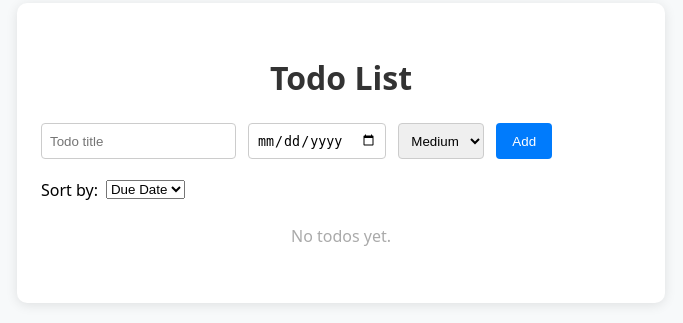
Scenario: App Integration › can set priority and due date
Type "Important task" into the field with placeholder "Todo title".
click(138, 141); type("Important task")  # box x1=41 y1=123 x2=236 y2=159
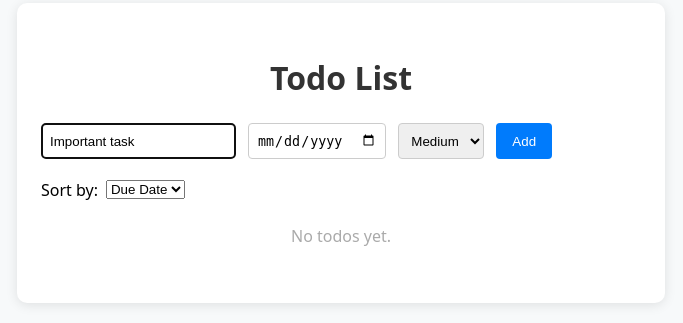
Type "2024-12-31" into the date field named "dueDate".
click(317, 141); type("2024-12-31")  # box x1=248 y1=123 x2=386 y2=159
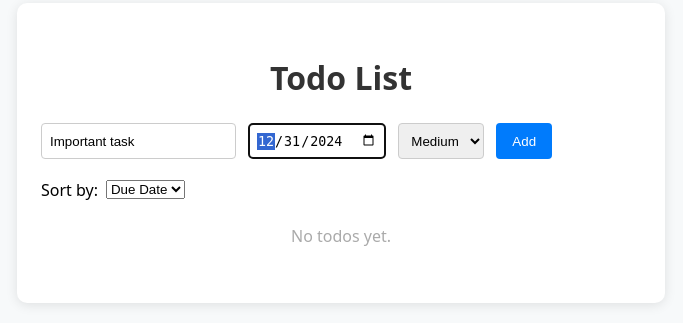
Select "High" in the 1st dropdown showing "Medium" at [441, 141], box x1=398 y1=123 x2=484 y2=159
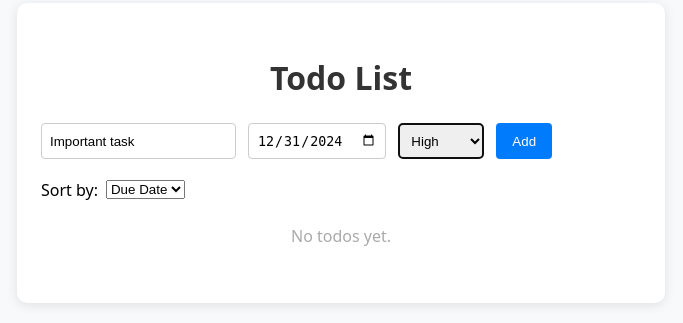
Click the button "Add".
click(524, 141)  # box x1=496 y1=123 x2=552 y2=159
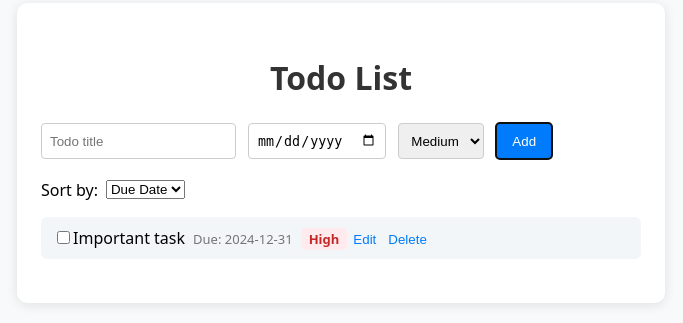
Check: the text "Important task" is shown, box x1=73 y1=227 x2=185 y2=249
Check: the text "Due: 2024-12-31" is shown, box x1=193 y1=230 x2=293 y2=248
Check: the text with class "todo-priority" reads "High", box x1=309 y1=230 x2=339 y2=248
